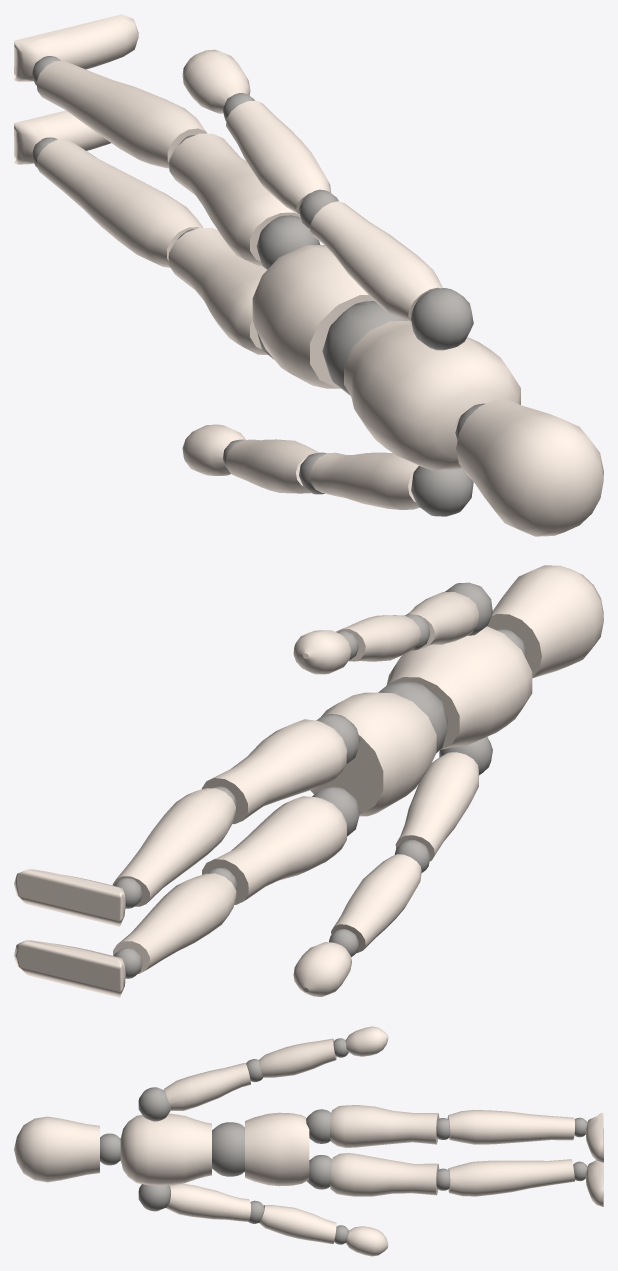
The model's file is mannequin.obj.
3 renders of one model, top to bottom at view 1: azimuth 30°, elevation 25°; view 2: azimuth 150°, elevation 25°; view 3: azimuth 270°, elevation 25°, orthographic. The views are drawn at different scales.
Bounding box in the file's own units: 0.1281 × 0.2941 × 0.694.
